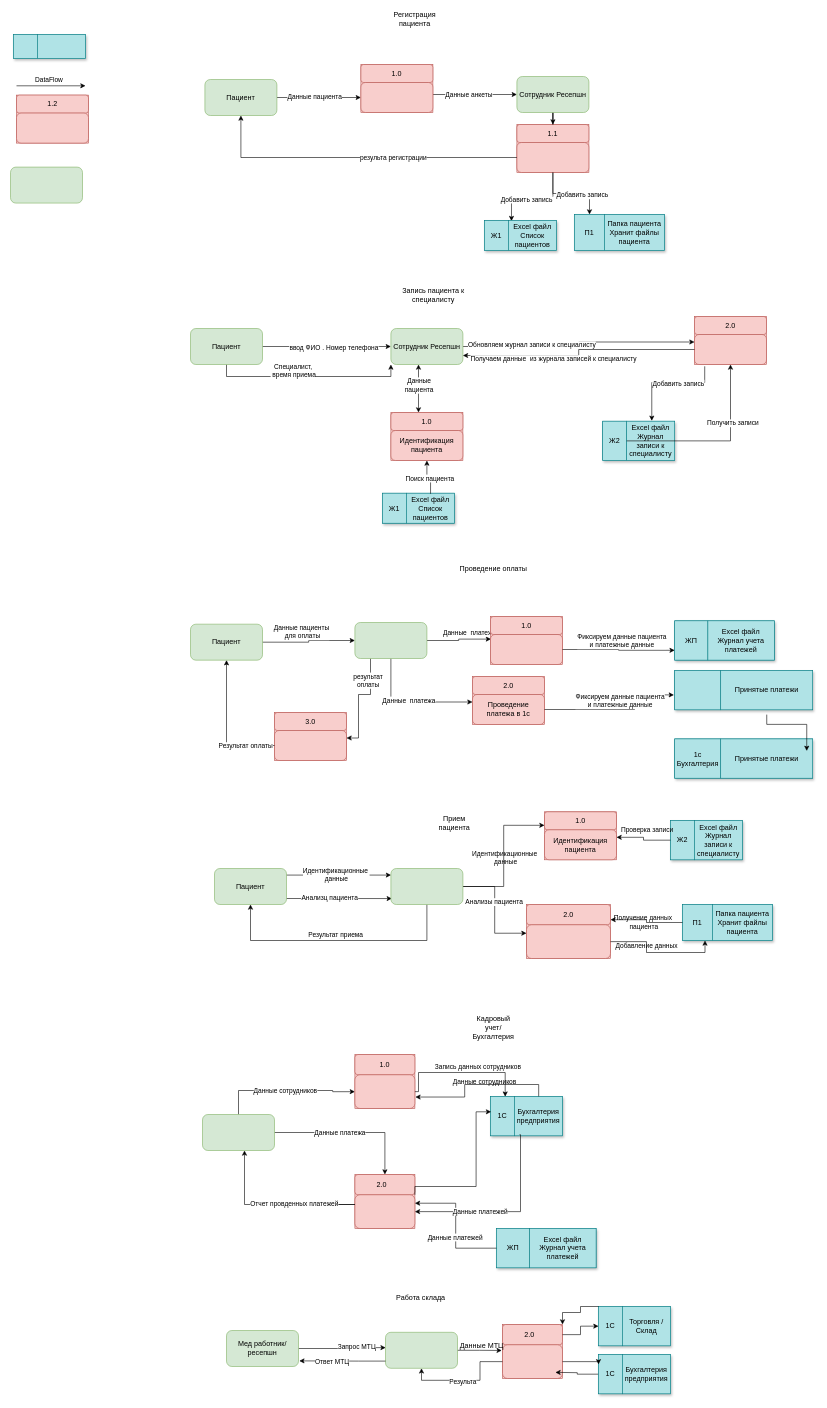
This 827x1408 diagram has some shape labels left out. Here are the shapes that lost their labels. From the top down, the centre of each, then its label:
At (x=61, y=46): "Data Source".
At (x=396, y=97): "Заполнение анкеты".
At (x=52, y=127): "Process".
At (x=552, y=157): "Обработкаn анкеты".
At (x=46, y=184): "External Entity".
At (x=730, y=349): "Запись к специалисту".
At (x=390, y=640): "Кассир".
At (x=526, y=649): "Проведение платежа в файле Excel".
At (x=697, y=690): "ККМ".
At (x=310, y=745): "Информирование пациента".
At (x=426, y=886): "Медицинский работник".
At (x=568, y=941): "Анализ данных ппациента. Фиксирования данных приема".
At (x=384, y=1091): "Кадровый учет Начисление зарплаты".
At (x=238, y=1132): "Бухгалтер".
At (x=384, y=1211): "Процессинг платежей".
At (x=421, y=1350): "Складской работник".
At (x=532, y=1361): "Обработка запроса МТЦ".
